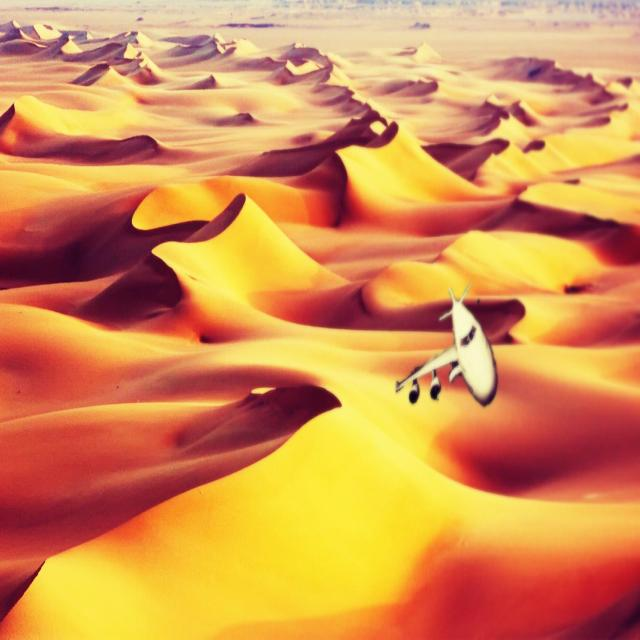airplane: (395, 282, 499, 407)
